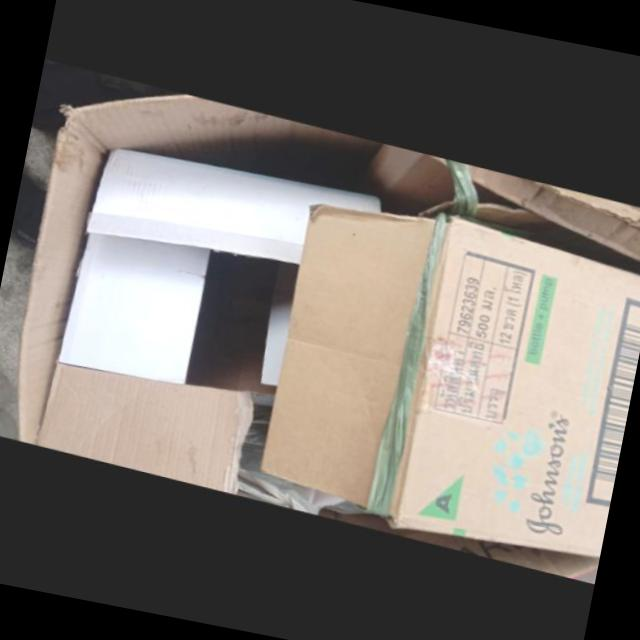carton: (14, 92, 379, 494), (254, 203, 640, 560), (54, 149, 379, 397), (371, 142, 640, 270)
